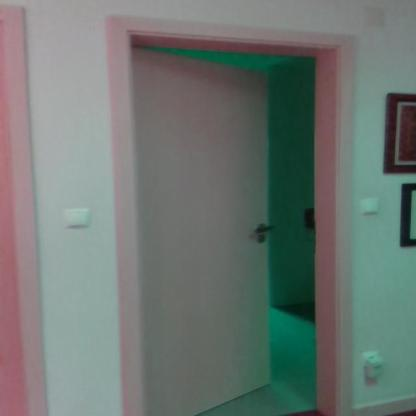door: (100, 11, 360, 415)
